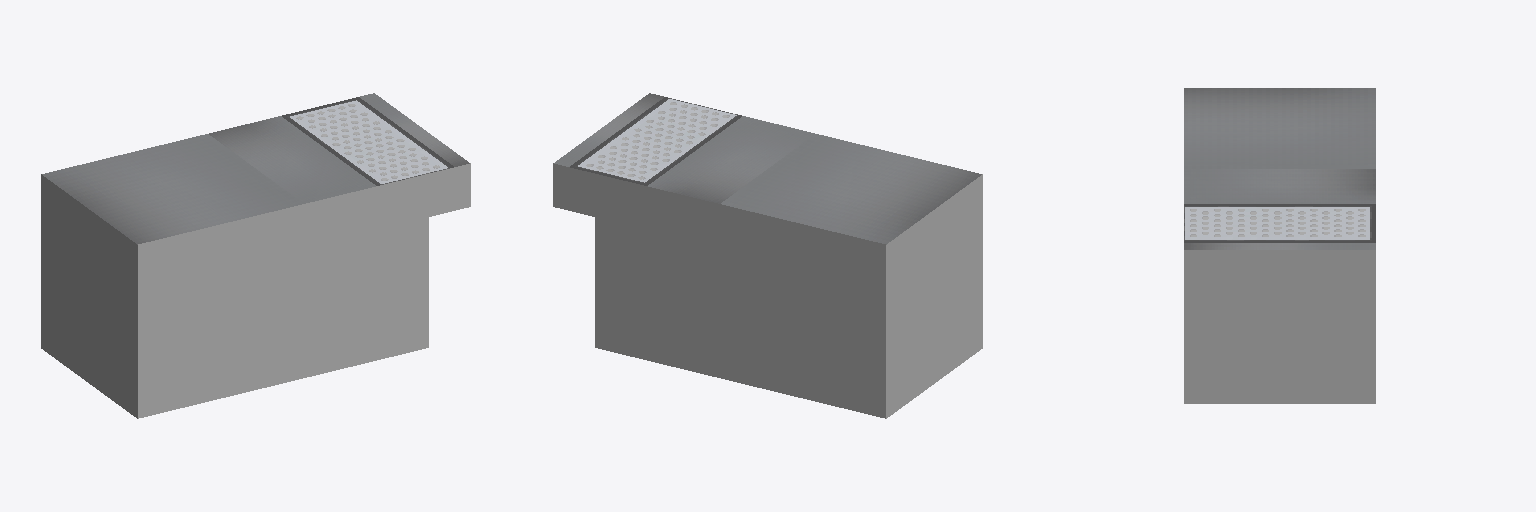
3 renders of one model, left to right at view 1: azimuth 30°, elevation 25°; view 2: azimuth 150°, elevation 25°; view 3: azimuth 270°, elevation 25°, orthographic.
Visible parts, largest first — view 1: cube; view 2: cube; view 3: cube.
Part boxes in pixels (x1,y1,x2,y2): cube: (41,93,470,418); cube: (553,93,982,418); cube: (1184,88,1375,403).
Size of the model in its own units: 2 by 1 by 1.
Materials: 3 (1 with a texture image).